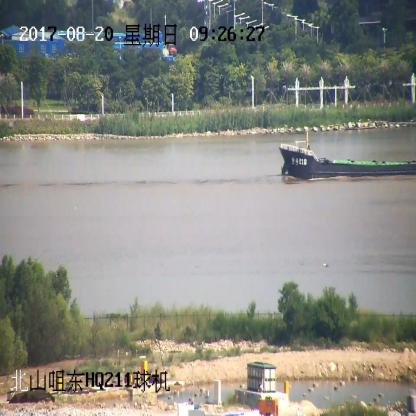Bulk Carrier: (281, 139, 415, 175)
